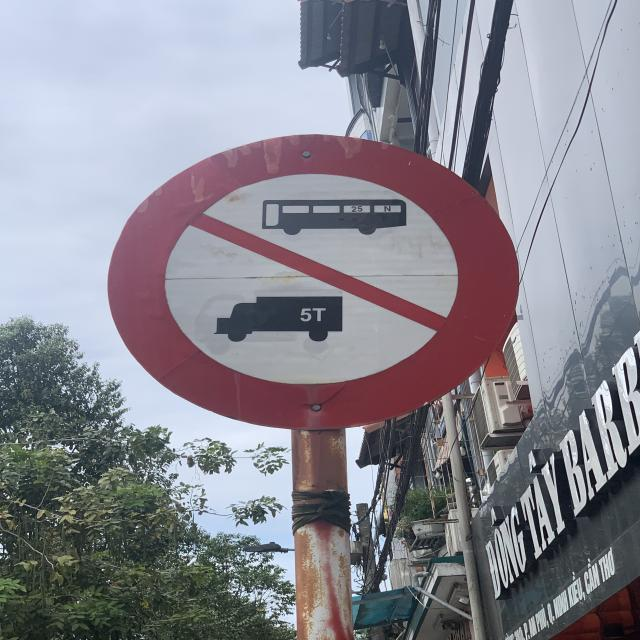Cam_XeTai_XeKhach: (108, 132, 522, 428)
